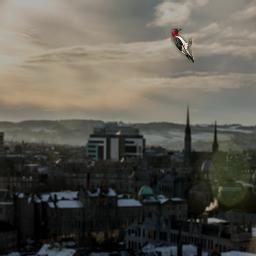Woodpecker: (171, 28, 194, 63)
